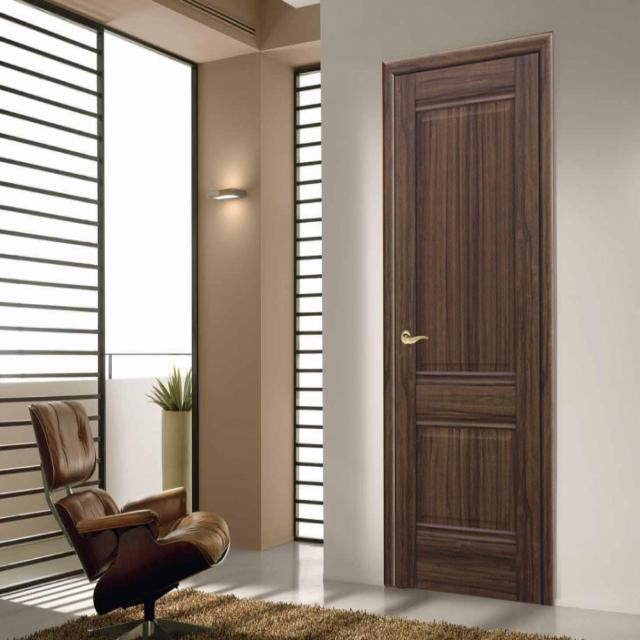close: (381, 65, 555, 594)
